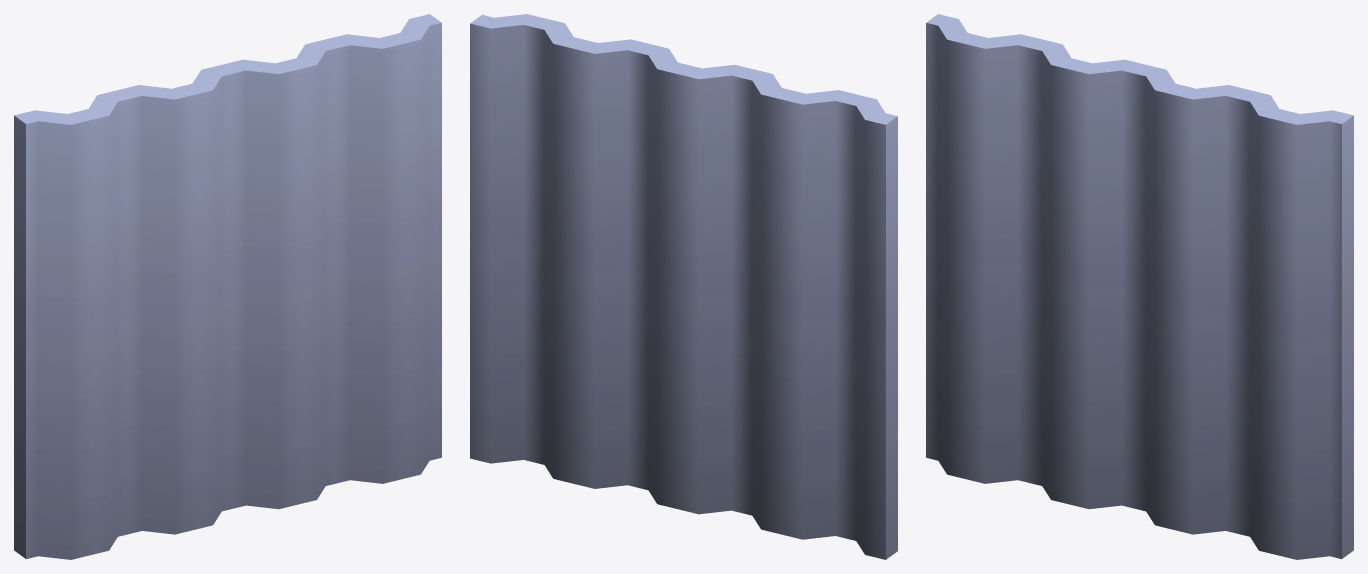
File: metal-panel.glb
3 renders of one model, left to right at view 1: azimuth 30°, elevation 25°; view 2: azimuth 150°, elevation 25°; view 3: azimuth 330°, elevation 25°, orthographic.
Visible parts, largest first — view 1: metal-panel; view 2: metal-panel; view 3: metal-panel.
Part boxes in pixels (left/top/right/bottom): metal-panel: left=14, top=14, right=441, bottom=559; metal-panel: left=470, top=14, right=897, bottom=559; metal-panel: left=926, top=14, right=1353, bottom=559.
Size of the model in its own units: 0.5 by 0.5 by 0.05.
Materials: 1 (1 with a texture image).
